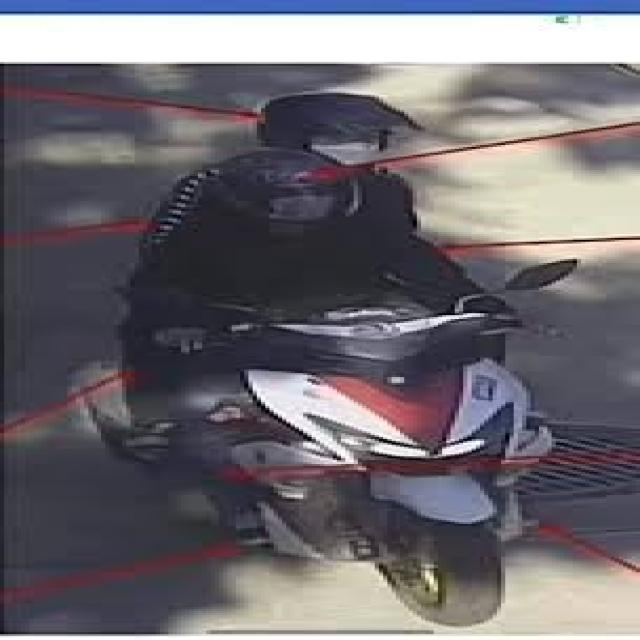helmet: (201, 143, 359, 233), (250, 92, 434, 168)
